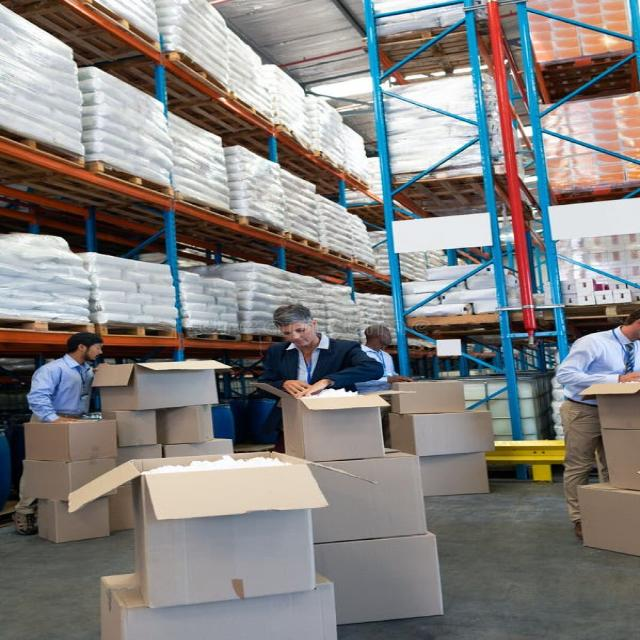box: (113, 447, 343, 608), (103, 544, 387, 640), (302, 537, 478, 640), (288, 438, 456, 540), (261, 381, 399, 458), (103, 354, 237, 412), (408, 446, 516, 508), (12, 498, 129, 552), (15, 462, 130, 516), (571, 485, 640, 574), (21, 414, 128, 469), (401, 412, 504, 462), (574, 377, 640, 425), (594, 429, 640, 496), (177, 400, 240, 447), (395, 378, 485, 409), (105, 409, 173, 445)
